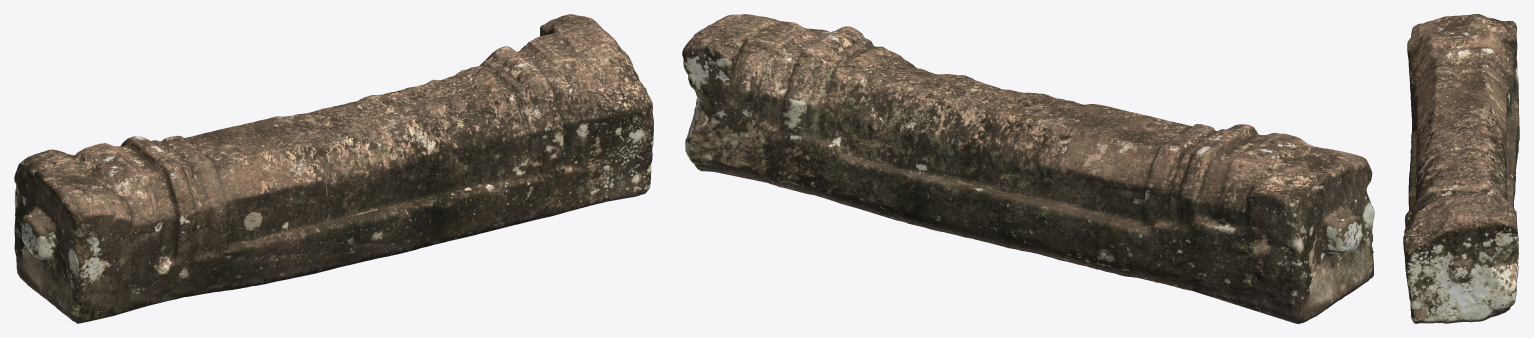
File: 33_MysonSanctuaryD_Tru_final.glb
The picture shows the model from 3 angles, left to right: view 1: azimuth 30°, elevation 25°; view 2: azimuth 150°, elevation 25°; view 3: azimuth 270°, elevation 25°; orthographic projection. The views are drawn at different scales.
Size of the model in its own units: 1.96 by 0.4324 by 0.4337.
1 material, 1 textured.
